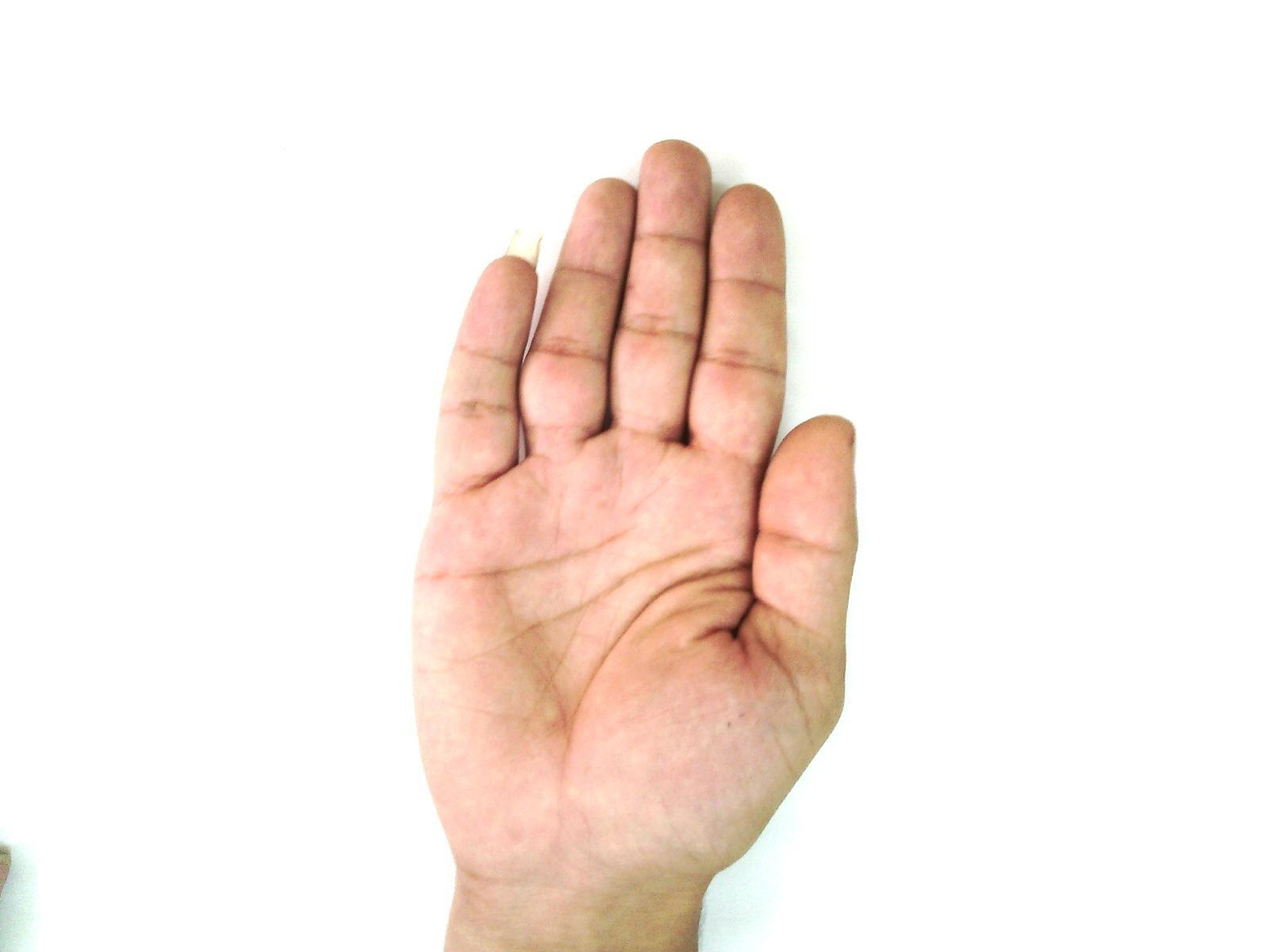open_palm: (407, 138, 862, 893)
